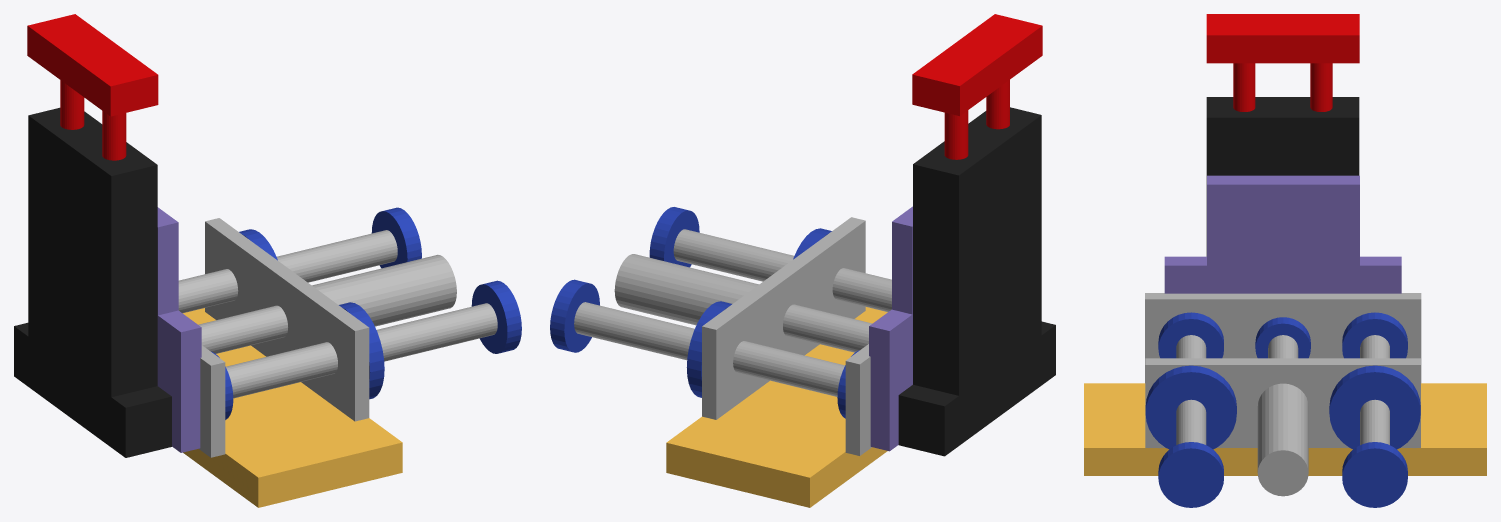
Rendered from AR_ALL.fbx.
3 renders of one model, left to right at view 1: azimuth 30°, elevation 25°; view 2: azimuth 150°, elevation 25°; view 3: azimuth 270°, elevation 25°, orthographic. The views are drawn at different scales.
Visible parts, largest first — view 1: Chair, Floor, FrontWall, Pillow, Tomb, PoleMiddleF, PoleLeftF, PoleLeftR, PorleRightF, PoleMiddleR, BackWall, DiskLeftF (+5 smaller); view 2: Chair, Floor, FrontWall, Pillow, Tomb, PoleMiddleF, PorleRightF, PoleRightR, PoleLeftF, PoleMiddleR, BackWall, DiskRightF (+5 smaller); view 3: Tomb, Floor, Chair, BackWall, FrontWall, Pillow, PoleMiddleF, DiskLeftM, DiskRightM, DiskLeftF, DiskRightF, DiskLeftBK (+9 smaller).
Part boxes in pixels (x1,y1,x2,y2): Chair: (14, 107, 171, 457); Floor: (183, 308, 402, 507); FrontWall: (205, 218, 369, 421); Pillow: (27, 14, 158, 116); Tomb: (157, 207, 201, 452); PoleMiddleF: (312, 254, 456, 326); PoleLeftF: (376, 303, 497, 361); PoleLeftR: (226, 342, 337, 398); PorleRightF: (277, 230, 397, 282); PoleMiddleR: (198, 305, 287, 353); BackWall: (199, 345, 225, 457); DiskLeftF: (471, 280, 521, 353); Chair: (898, 107, 1055, 456); Floor: (666, 307, 887, 507); FrontWall: (702, 217, 865, 419); Pillow: (912, 14, 1042, 116); Tomb: (869, 206, 912, 451); PoleMiddleF: (614, 254, 758, 325); PorleRightF: (574, 302, 694, 360); PoleRightR: (733, 341, 844, 396); PoleLeftF: (673, 229, 794, 281); PoleMiddleR: (783, 304, 872, 352); BackWall: (845, 344, 871, 455); DiskRightF: (550, 279, 599, 352); Tomb: (1164, 175, 1401, 293); Floor: (1084, 383, 1486, 475); Chair: (1206, 97, 1359, 256); BackWall: (1145, 293, 1421, 382); FrontWall: (1145, 358, 1420, 448); Pillow: (1206, 14, 1359, 63); PoleMiddleF: (1257, 383, 1308, 496); DiskLeftM: (1145, 365, 1236, 449); DiskRightM: (1329, 365, 1420, 449); DiskLeftF: (1158, 442, 1223, 507); DiskRightF: (1342, 442, 1407, 507); DiskLeftBK: (1158, 312, 1223, 358).
Bounding box in the file's own units: 2669 × 2599 × 2630.
